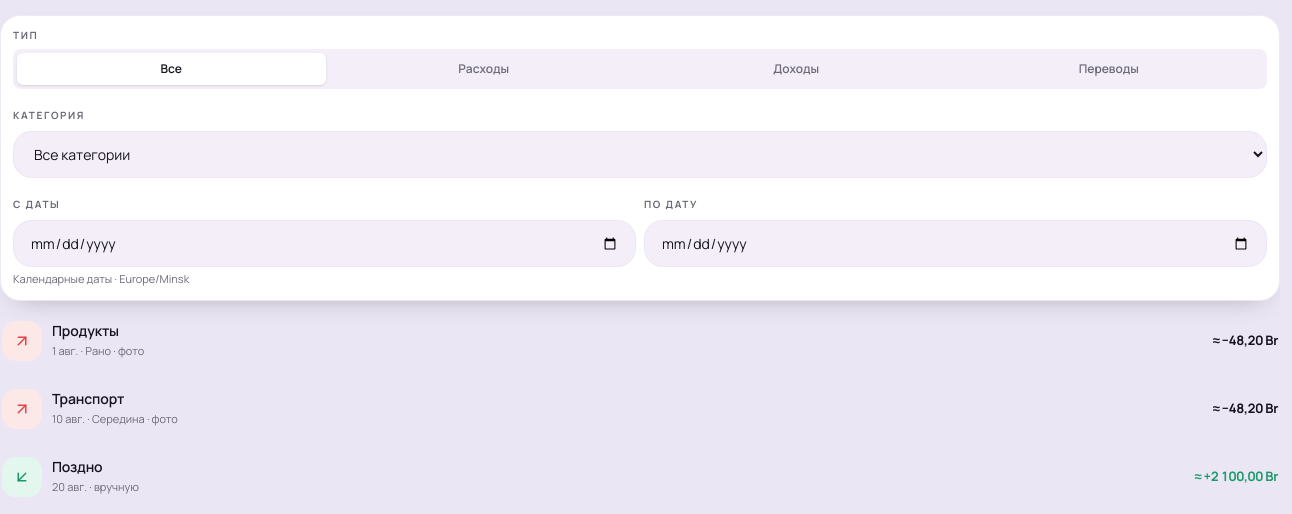
HistoryPanel › filters by inclusive Occurred on date range
Type "2026-08-05" into the date field labelled "С даты" at (324, 244), box [13,220,636,267]
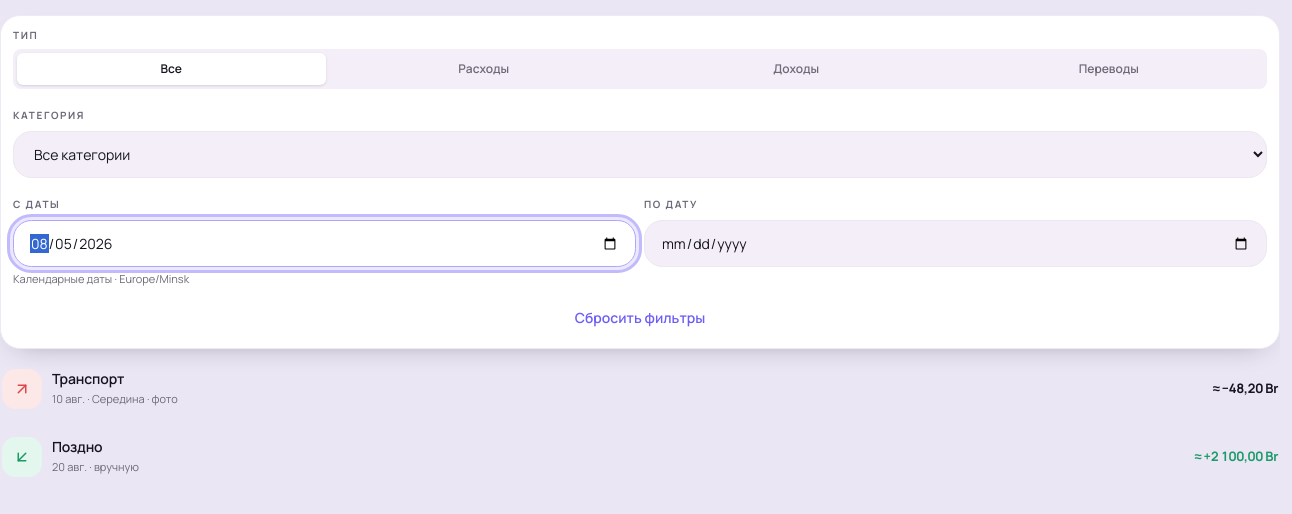
Type "2026-08-15" into the date field labelled "По дату" at (956, 244), box [644,220,1267,267]
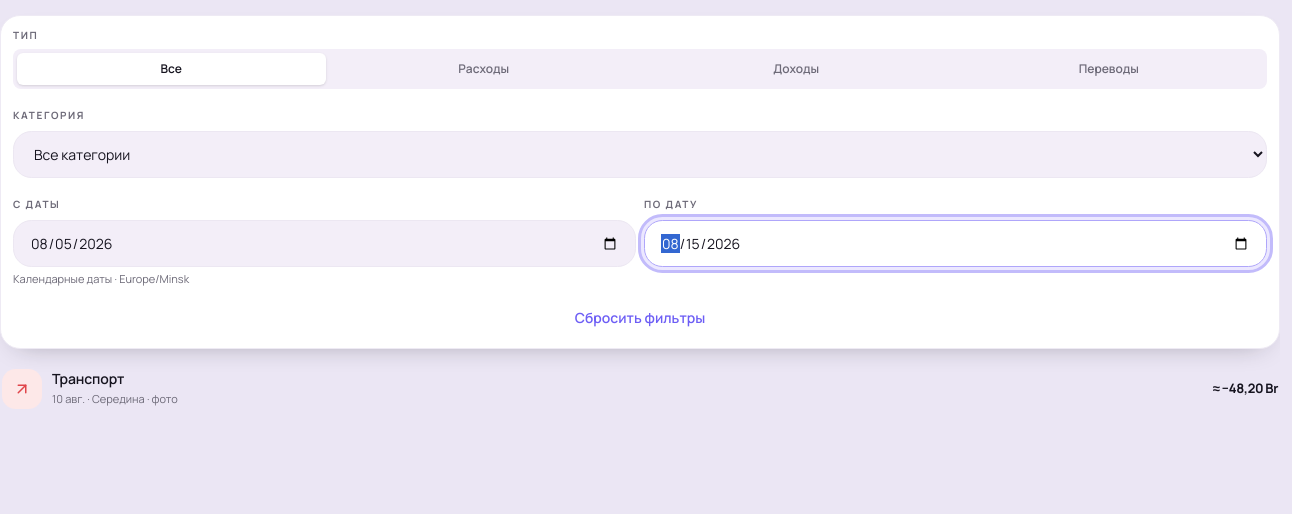
Check: the text "Транспорт" is shown, box [52,369,124,388]
Check: the link "Поздно" is gone
